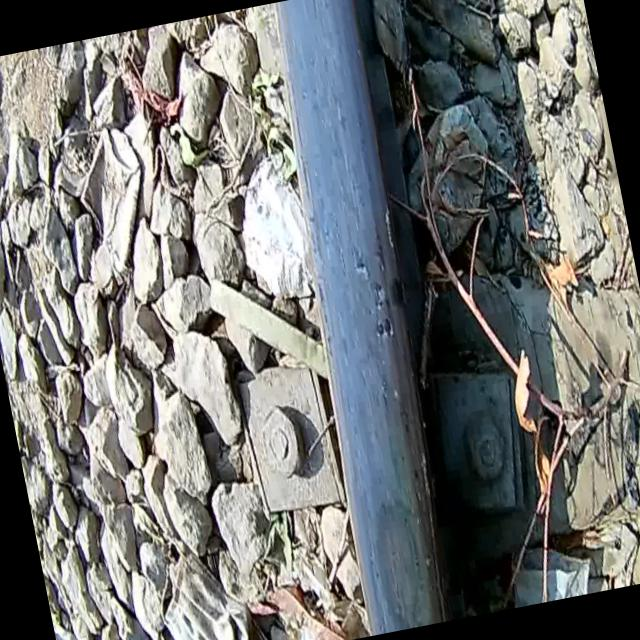Squats: (221, 0, 502, 640)
